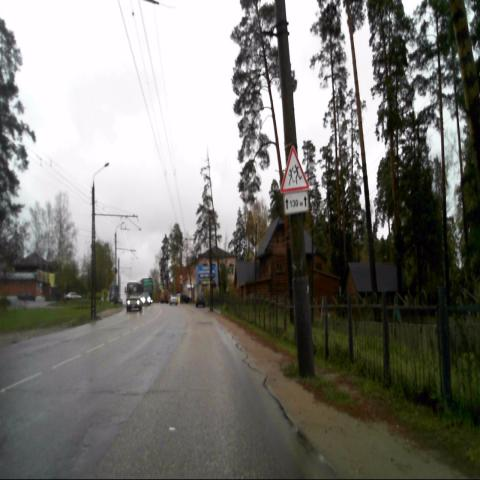1_23: (279, 144, 309, 191)
8_2_1: (283, 192, 309, 215)
